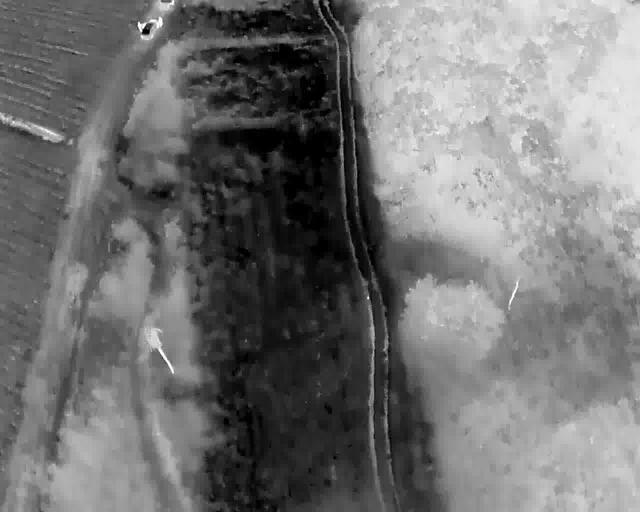car: (140, 18, 156, 40)
person: (137, 21, 141, 31), (158, 16, 161, 28)
